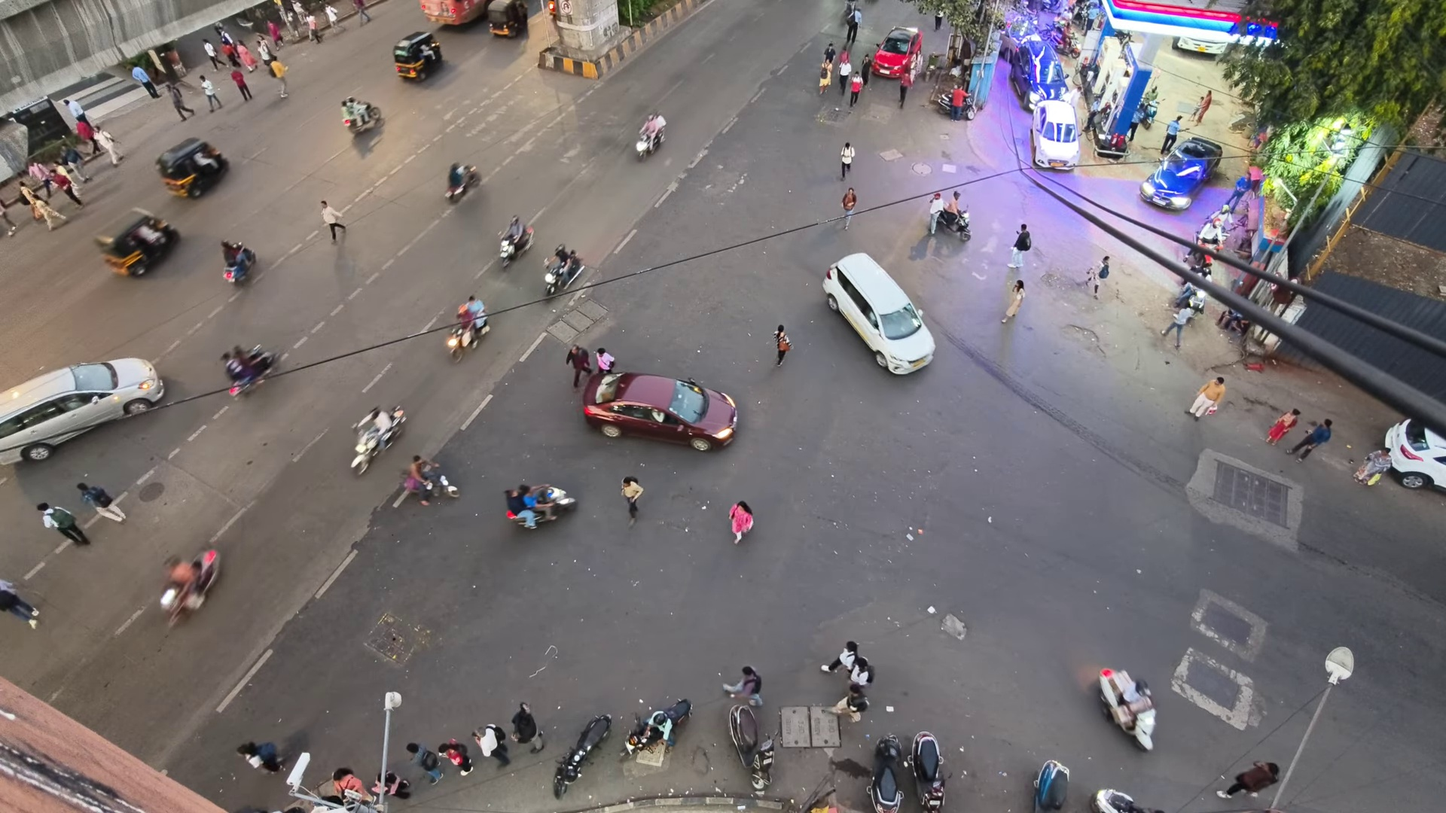walking: (18, 181, 66, 230), (36, 502, 90, 544), (1216, 762, 1279, 798), (1287, 419, 1332, 462), (76, 483, 125, 522), (0, 580, 38, 628), (1186, 376, 1226, 419), (511, 702, 545, 752), (722, 666, 761, 706), (405, 742, 442, 784), (473, 724, 509, 767), (1161, 303, 1194, 349), (237, 741, 283, 773), (1353, 448, 1391, 485), (831, 684, 868, 721), (334, 767, 374, 801), (53, 164, 83, 207), (438, 739, 473, 775), (1266, 409, 1300, 445), (820, 641, 858, 673), (621, 476, 644, 525), (565, 345, 591, 388), (320, 200, 346, 242), (1008, 224, 1031, 269), (372, 772, 410, 799), (1001, 279, 1024, 323), (167, 84, 195, 120), (96, 128, 123, 165), (729, 501, 752, 544), (1225, 174, 1251, 212), (1087, 256, 1109, 298), (27, 161, 51, 199), (75, 120, 101, 155), (1161, 116, 1183, 155), (133, 65, 159, 97), (200, 75, 223, 111), (1127, 103, 1146, 141), (773, 325, 791, 365), (230, 69, 252, 100), (63, 99, 90, 124), (850, 656, 872, 686), (929, 192, 945, 233), (270, 58, 287, 96), (841, 187, 856, 230), (236, 42, 257, 72), (0, 198, 17, 235), (1194, 90, 1212, 124), (839, 50, 852, 95), (840, 142, 855, 179), (846, 7, 861, 44), (594, 347, 615, 373), (950, 86, 966, 120), (203, 39, 221, 69), (323, 3, 342, 31), (850, 70, 865, 105), (304, 14, 322, 43), (899, 68, 912, 107), (221, 43, 240, 68), (859, 54, 873, 87), (267, 20, 282, 50), (257, 35, 271, 65), (353, 0, 371, 23), (819, 60, 831, 94), (823, 41, 836, 65), (934, 11, 944, 31)
